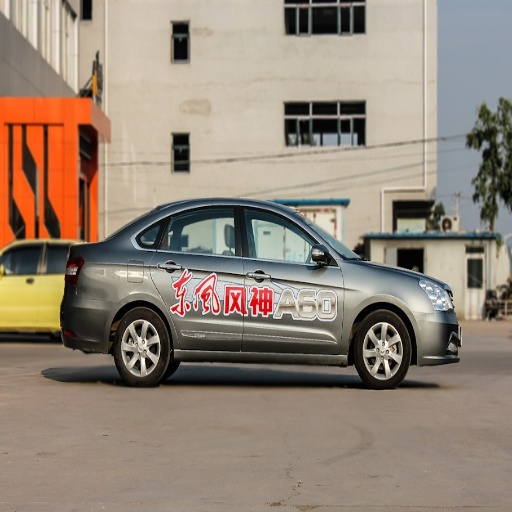back_right_door: (147, 206, 242, 348)
front_right_door: (243, 207, 344, 348)
